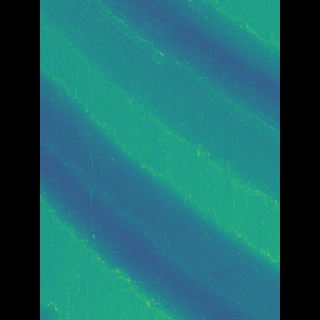Loch: (68, 65, 250, 320), (110, 0, 251, 137)
